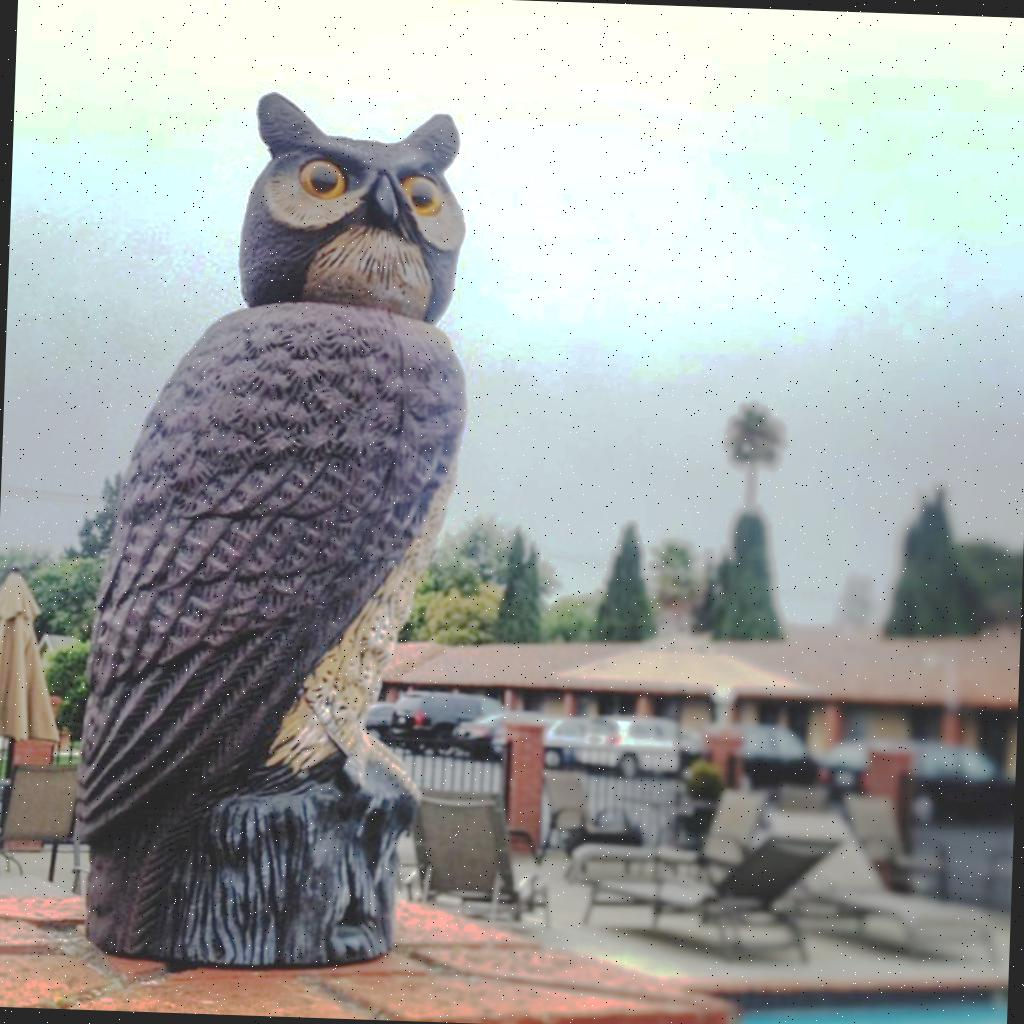Owl: (78, 81, 486, 855)
